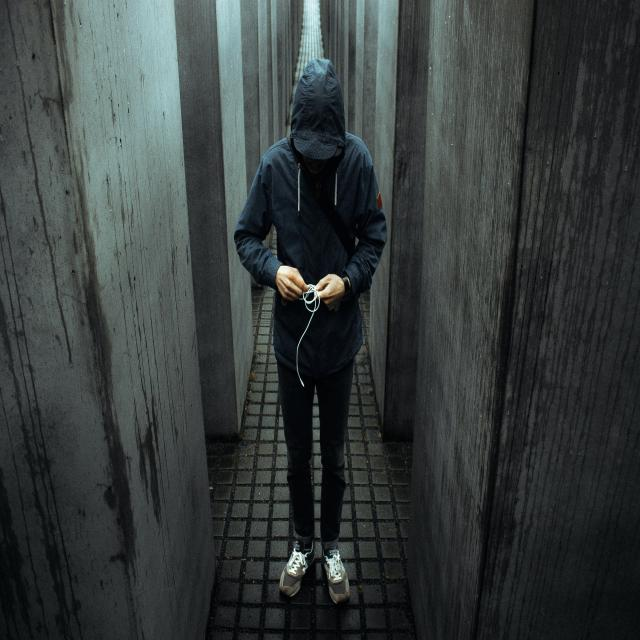standing: (235, 55, 391, 611)
